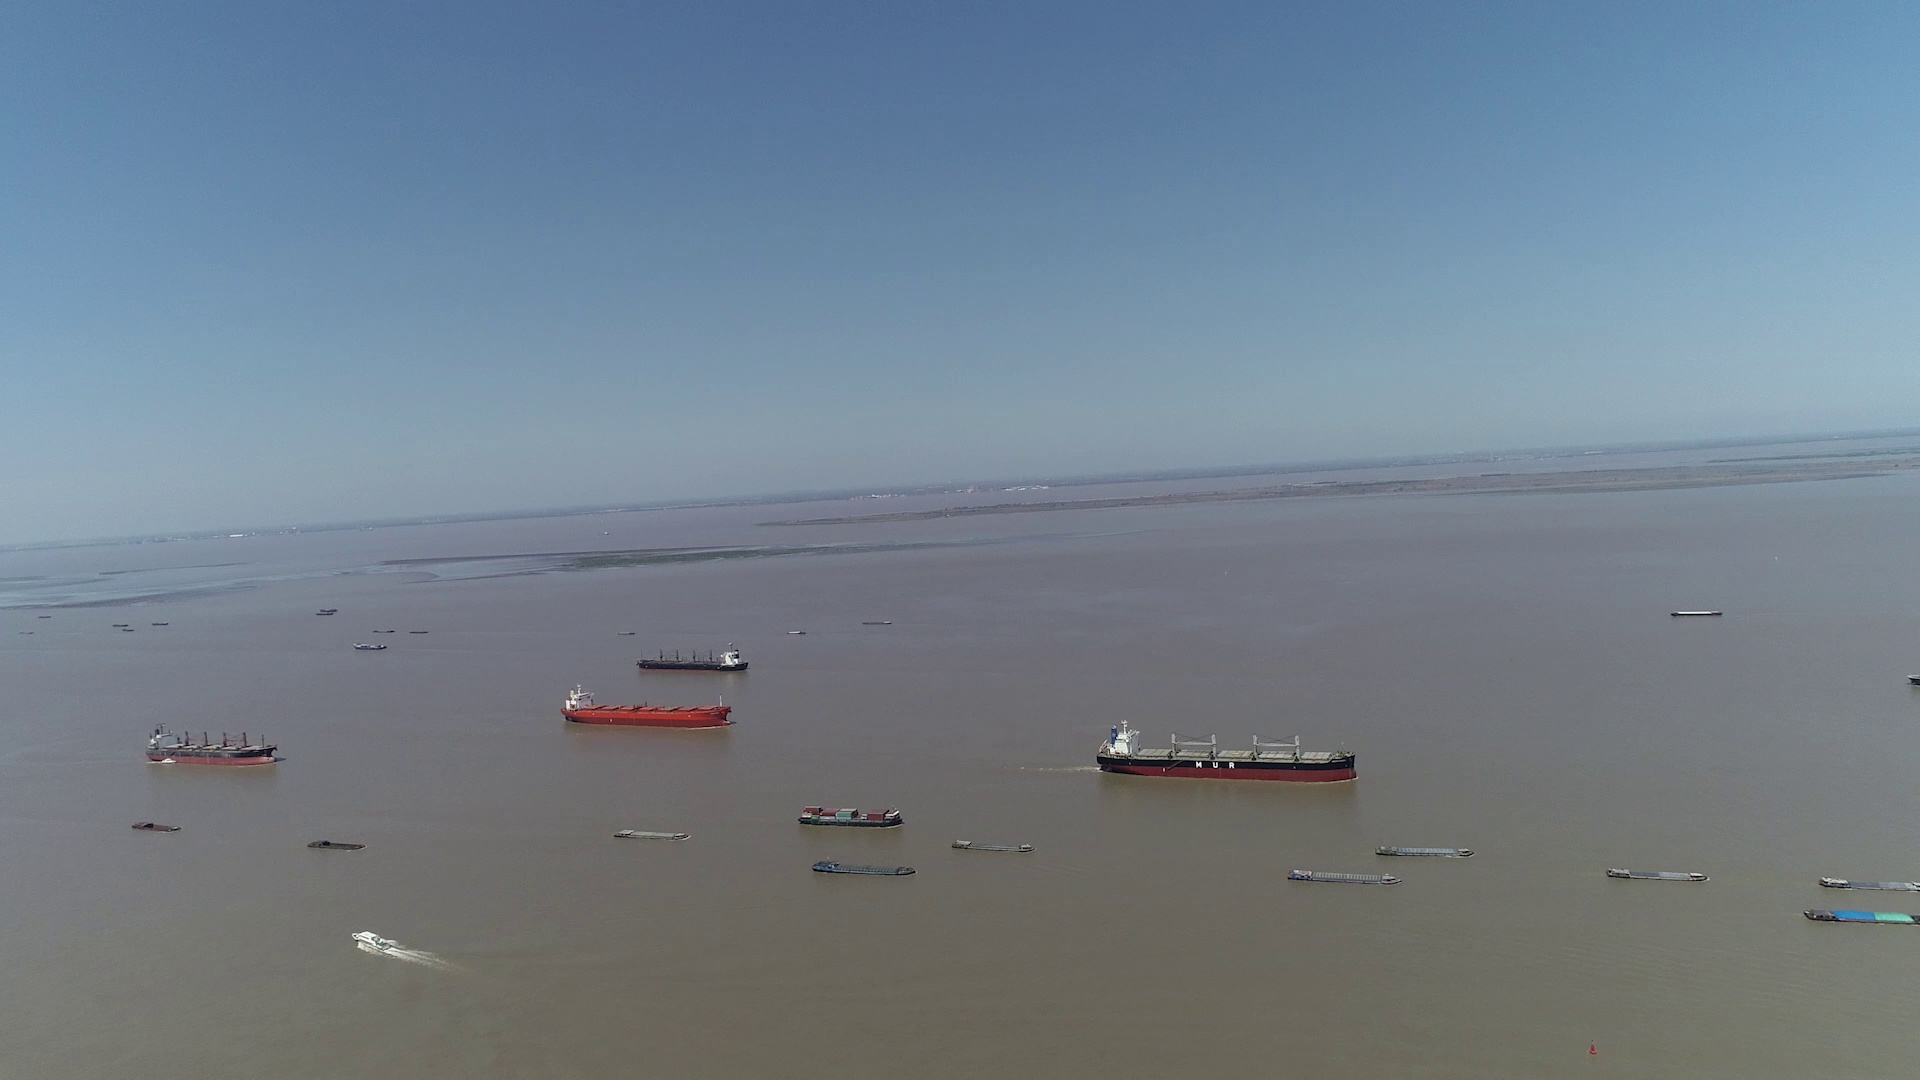ship: (1095, 719, 1356, 783), (562, 684, 731, 729), (145, 720, 280, 766), (636, 644, 748, 671), (1803, 899, 1917, 924), (795, 803, 905, 827), (1288, 866, 1399, 886), (810, 860, 913, 877), (1609, 865, 1705, 882), (1375, 841, 1468, 858), (1820, 876, 1916, 891), (952, 837, 1035, 852), (351, 928, 397, 953), (615, 827, 688, 840), (309, 837, 368, 851), (132, 822, 179, 833), (1672, 611, 1724, 617), (355, 640, 385, 650)
